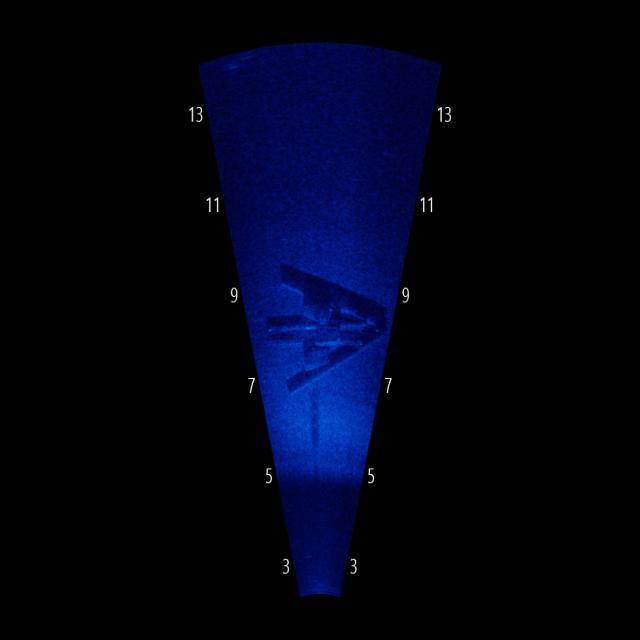triangle: (258, 271, 390, 392)
